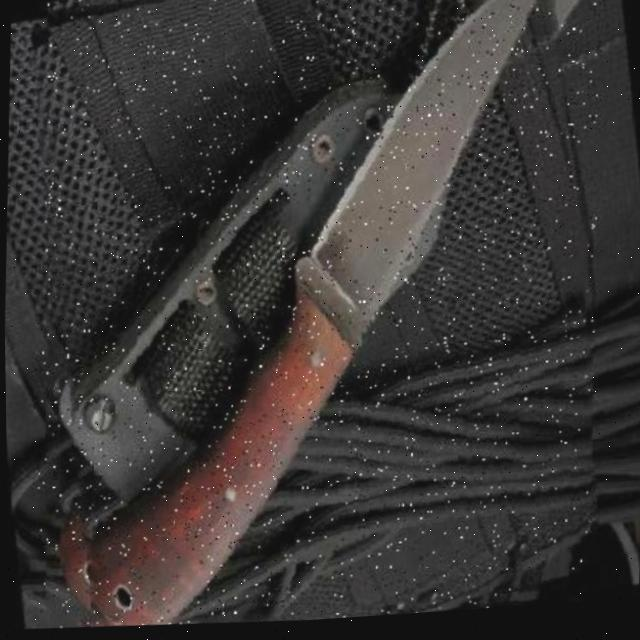knife: (26, 0, 609, 639)
